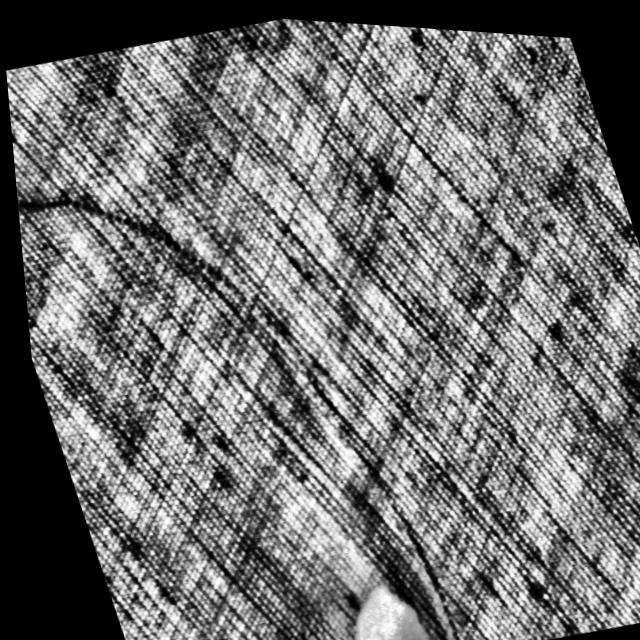Stitch: (0, 30, 521, 640), (305, 559, 460, 640), (323, 568, 445, 640)
